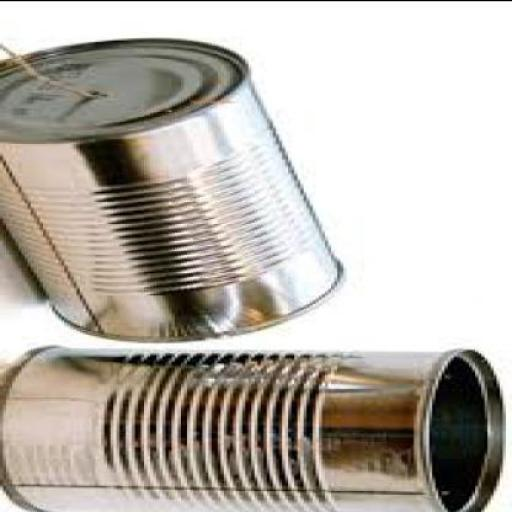metal: (3, 39, 347, 344), (4, 349, 506, 511)
